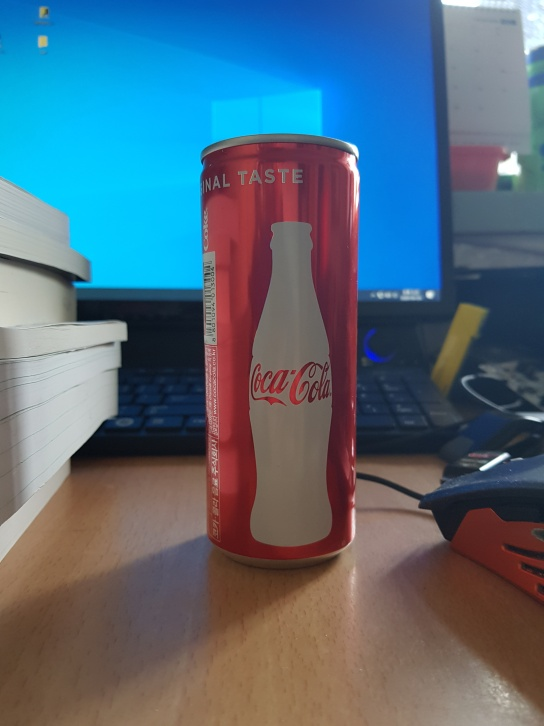Can: (197, 129, 362, 571)
